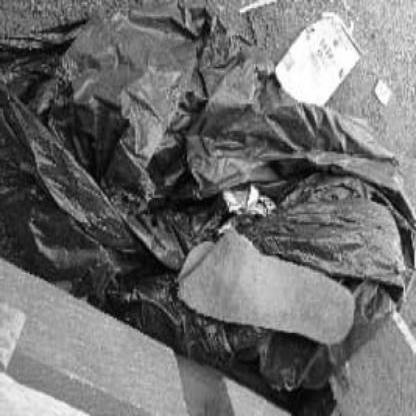objects: (5, 22, 405, 394)
